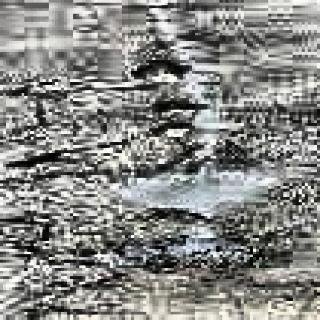crack: (9, 140, 78, 192)
pothole: (100, 196, 304, 298), (127, 97, 249, 184), (121, 35, 212, 94), (6, 204, 58, 280), (10, 68, 68, 117)
